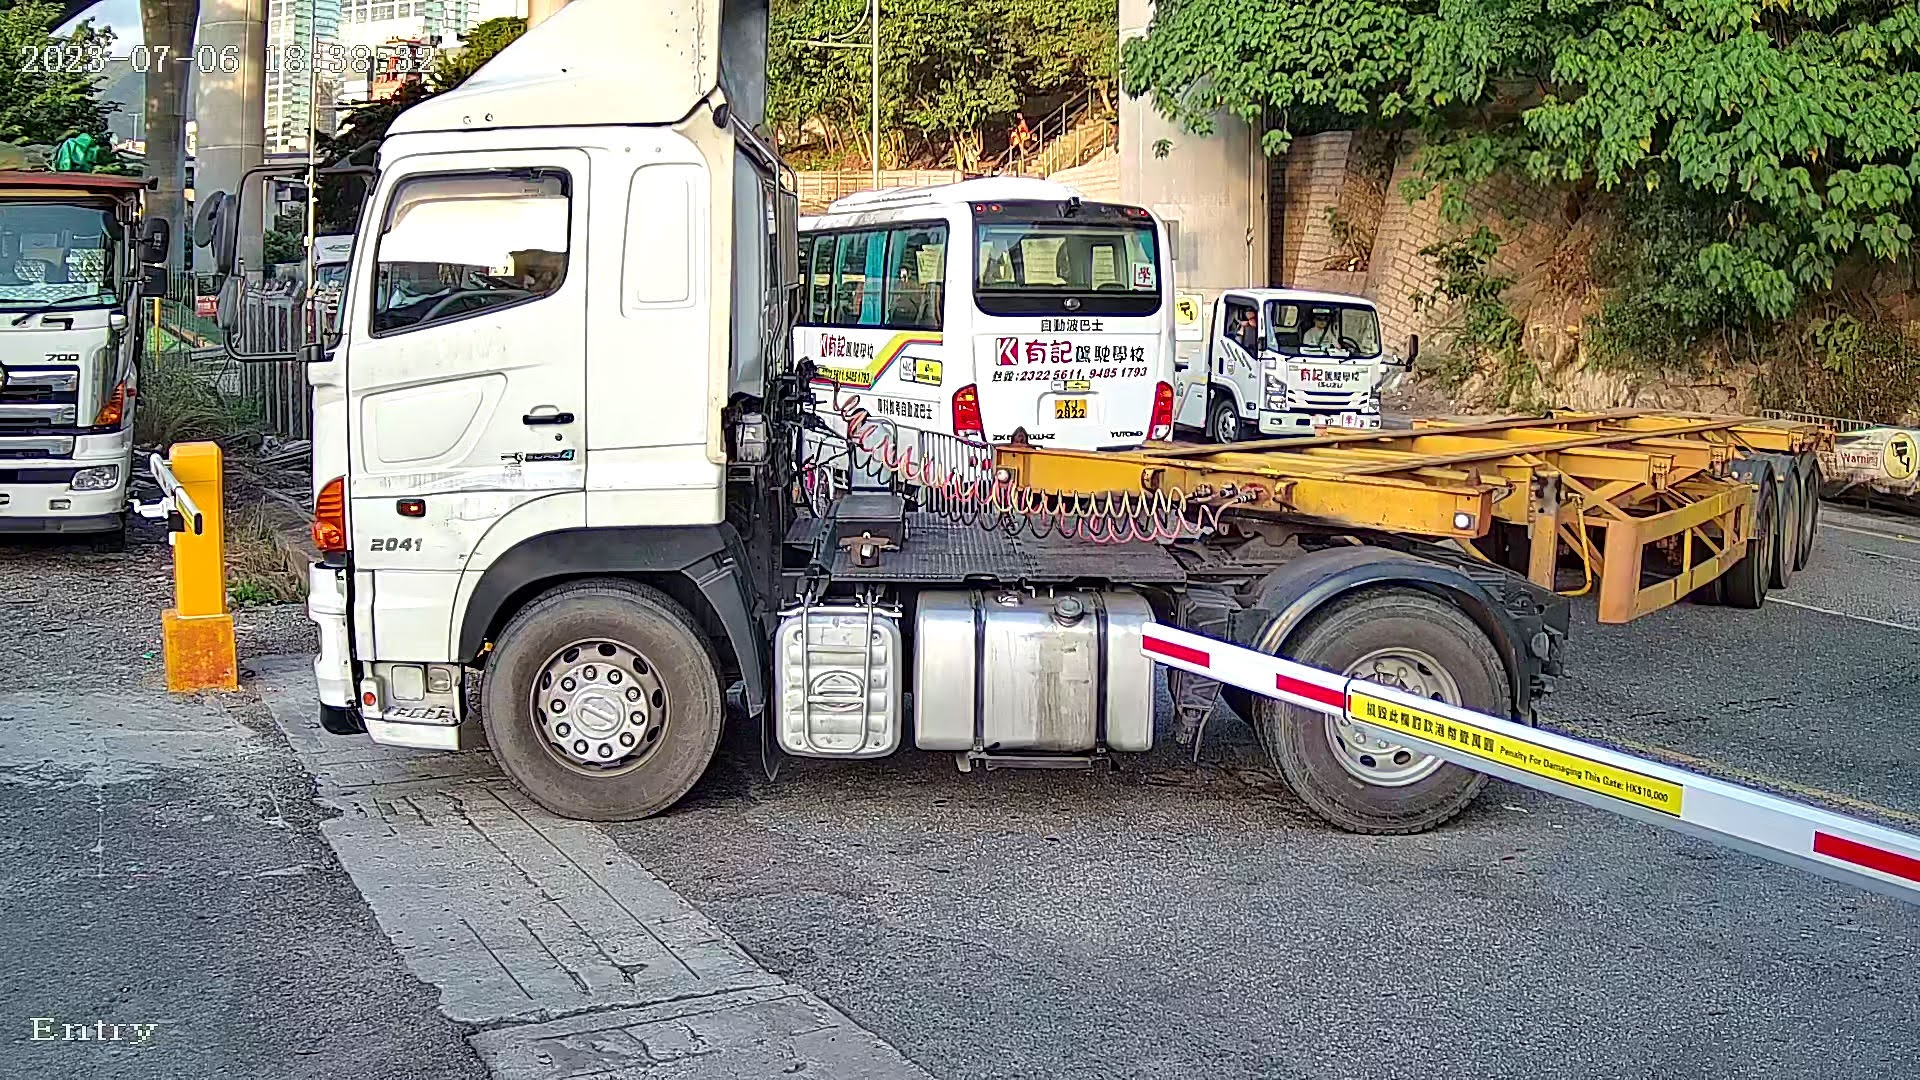tractor: (252, 1, 1584, 849)
